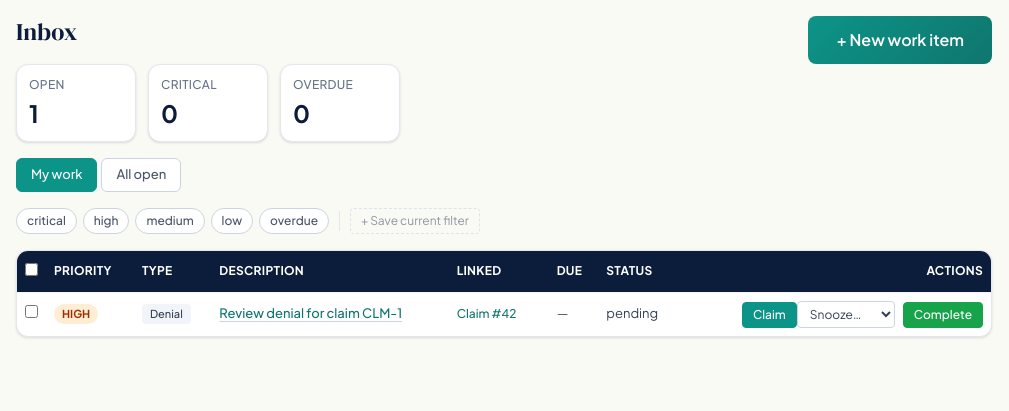
InboxPage › claims an unassigned item
Expected: the button "Review denial for claim CLM-1" is shown, [219, 304, 402, 324]
Step 1. Click the button "Claim" → click(769, 314), box [742, 302, 797, 328]
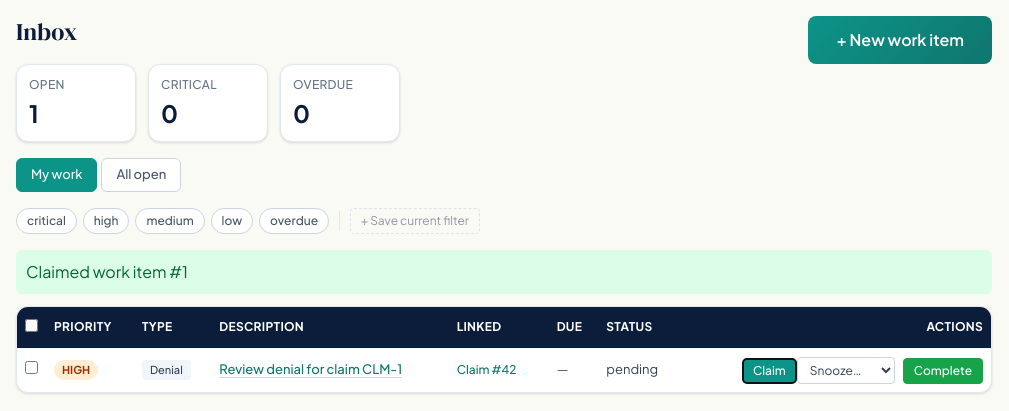
Expected: the text "Claimed work item #1" is shown, [16, 250, 992, 294]
